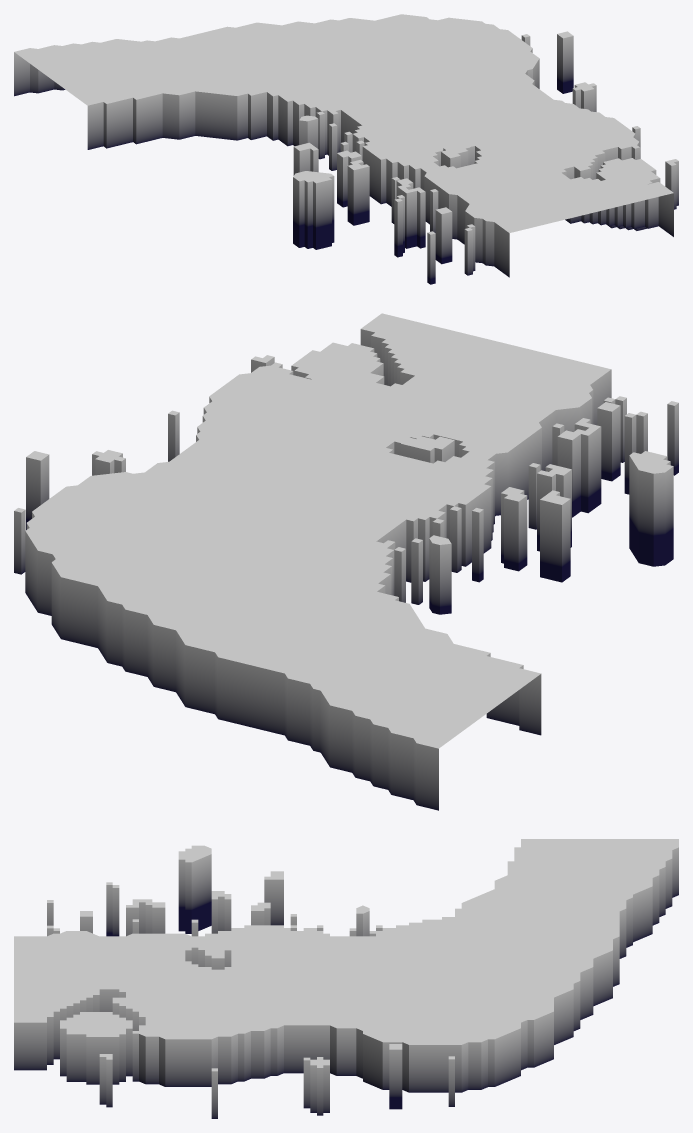
File: BarrensPart4.obj
3 renders of one model, top to bottom at view 1: azimuth 30°, elevation 25°; view 2: azimuth 150°, elevation 25°; view 3: azimuth 270°, elevation 25°, orthographic. The views are drawn at different scales.
Visible parts, largest first — view 1: Плоскость.006; view 2: Плоскость.006; view 3: Плоскость.006.
Boxes of the visible parts, bbox=[...] form: Плоскость.006: bbox=[14, 14, 678, 284]; Плоскость.006: bbox=[14, 313, 678, 810]; Плоскость.006: bbox=[14, 839, 678, 1118].
Size of the model in its own units: 80 by 16 by 101.
